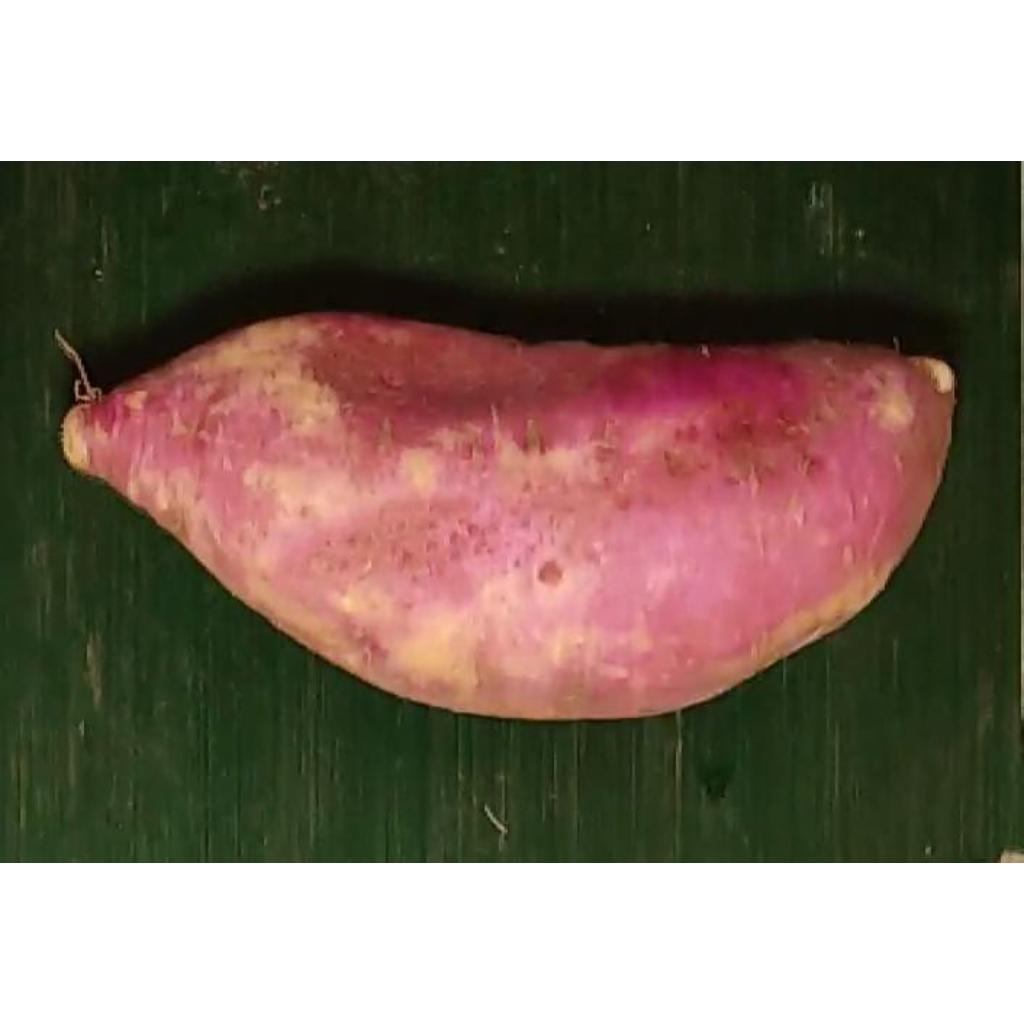Sweet Potato: (59, 312, 957, 722)
